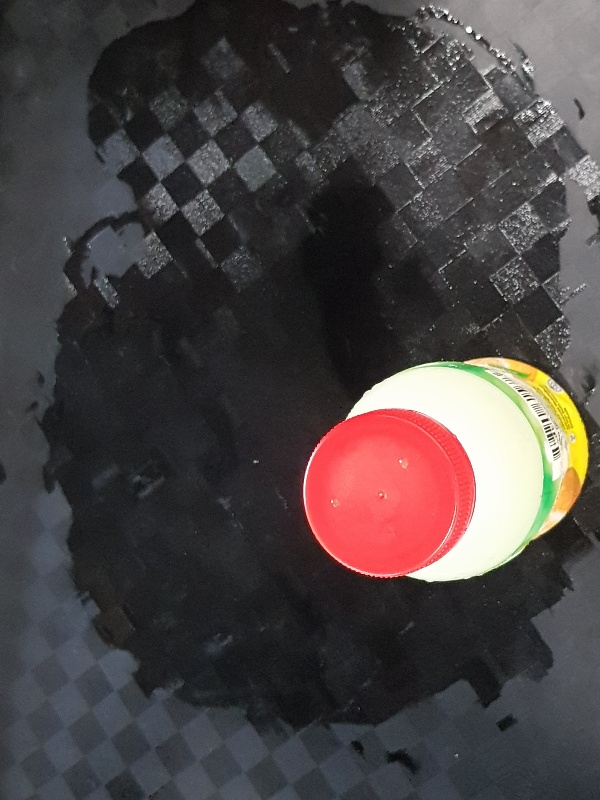Fruit Tree Yuzu Mixed Juice Drink: (301, 355, 587, 583)
